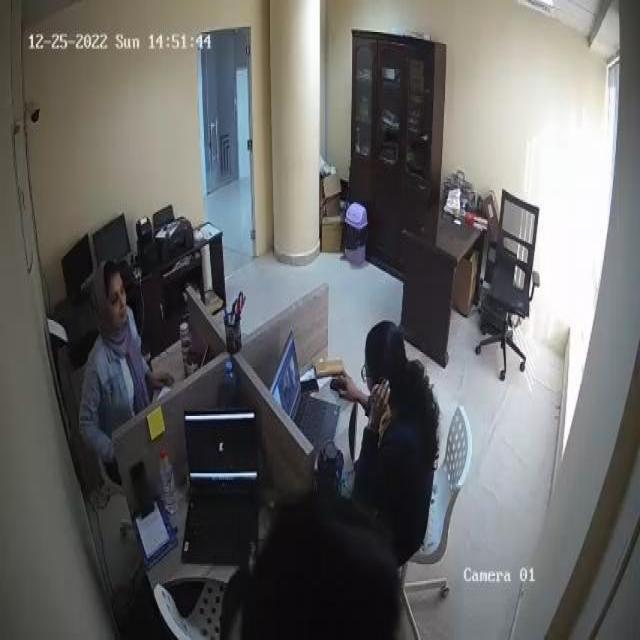bare_hand: (362, 367, 396, 435), (327, 364, 365, 408), (139, 362, 176, 391)
